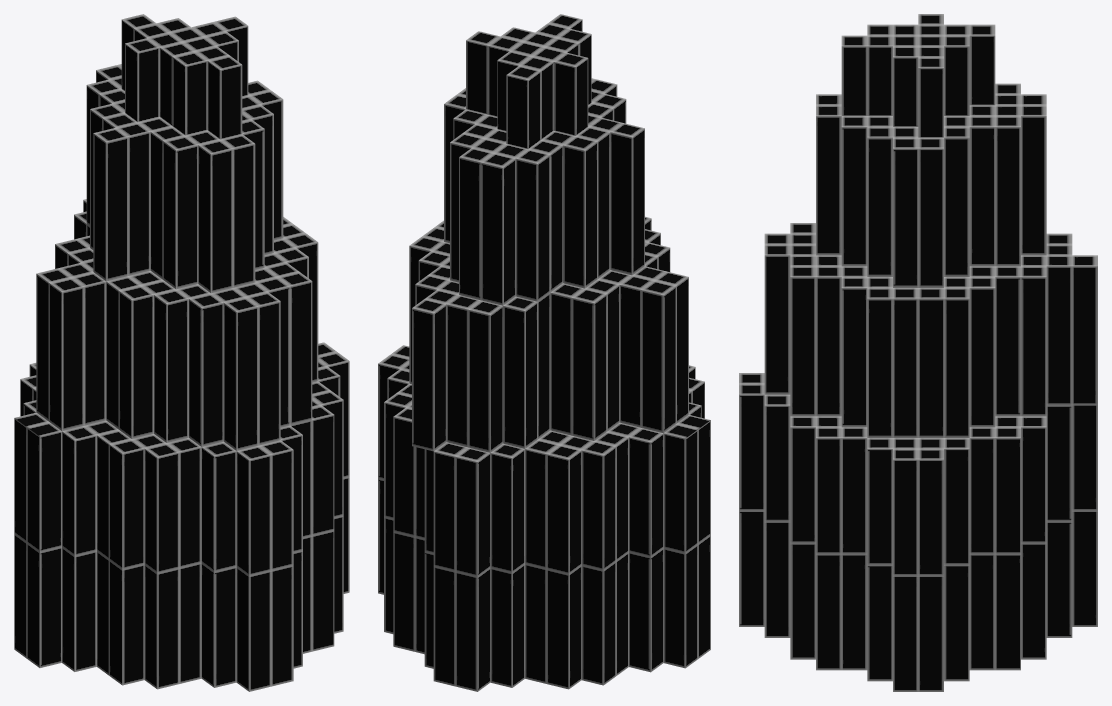
The model's file is buildingc.fbx.
3 renders of one model, left to right at view 1: azimuth 30°, elevation 25°; view 2: azimuth 150°, elevation 25°; view 3: azimuth 270°, elevation 25°, orthographic.
Visible parts, largest first — view 1: pCube5; view 2: pCube5; view 3: pCube5.
Boxes of the visible parts, bbox=[...] form: pCube5: bbox=[14, 14, 349, 691]; pCube5: bbox=[378, 14, 710, 691]; pCube5: bbox=[739, 14, 1097, 691].
Bounding box in the file's own units: 1400 × 2500 × 1400.
